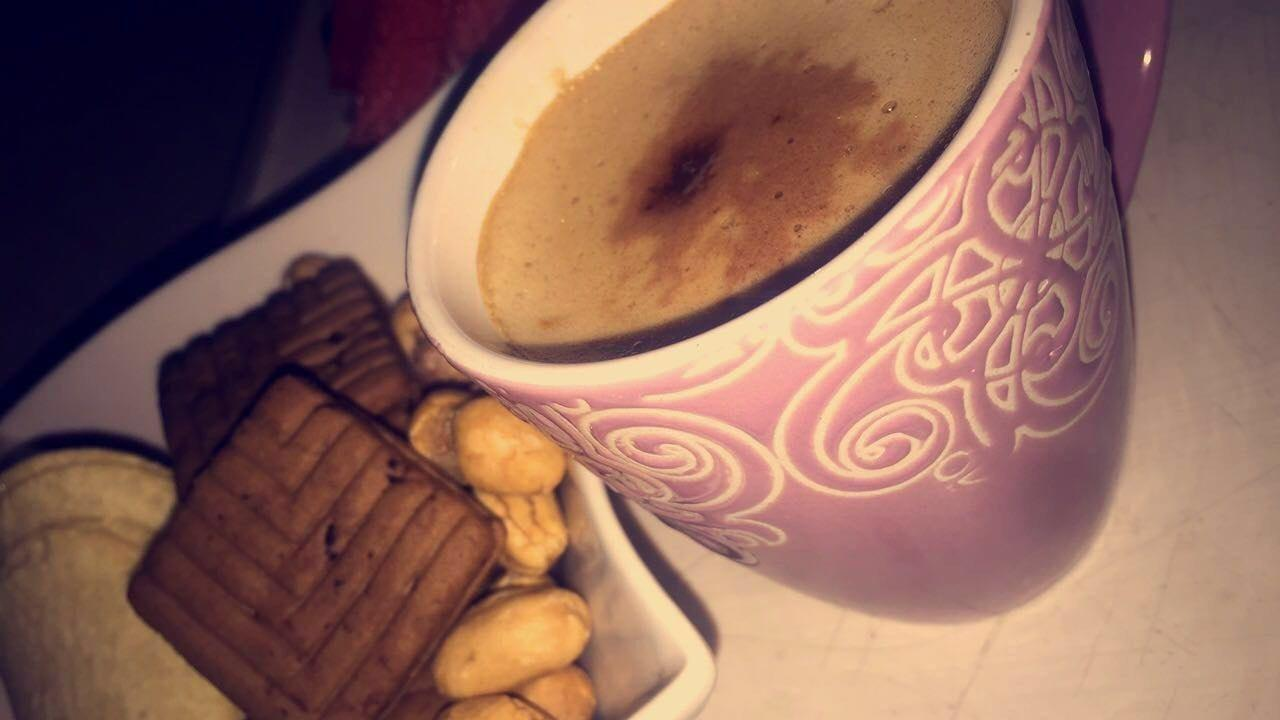cup-handle: (401, 0, 1153, 626)
